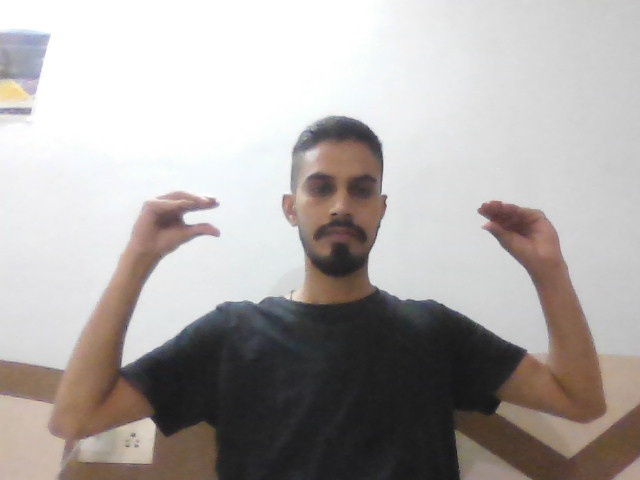No: (123, 186, 240, 270)
